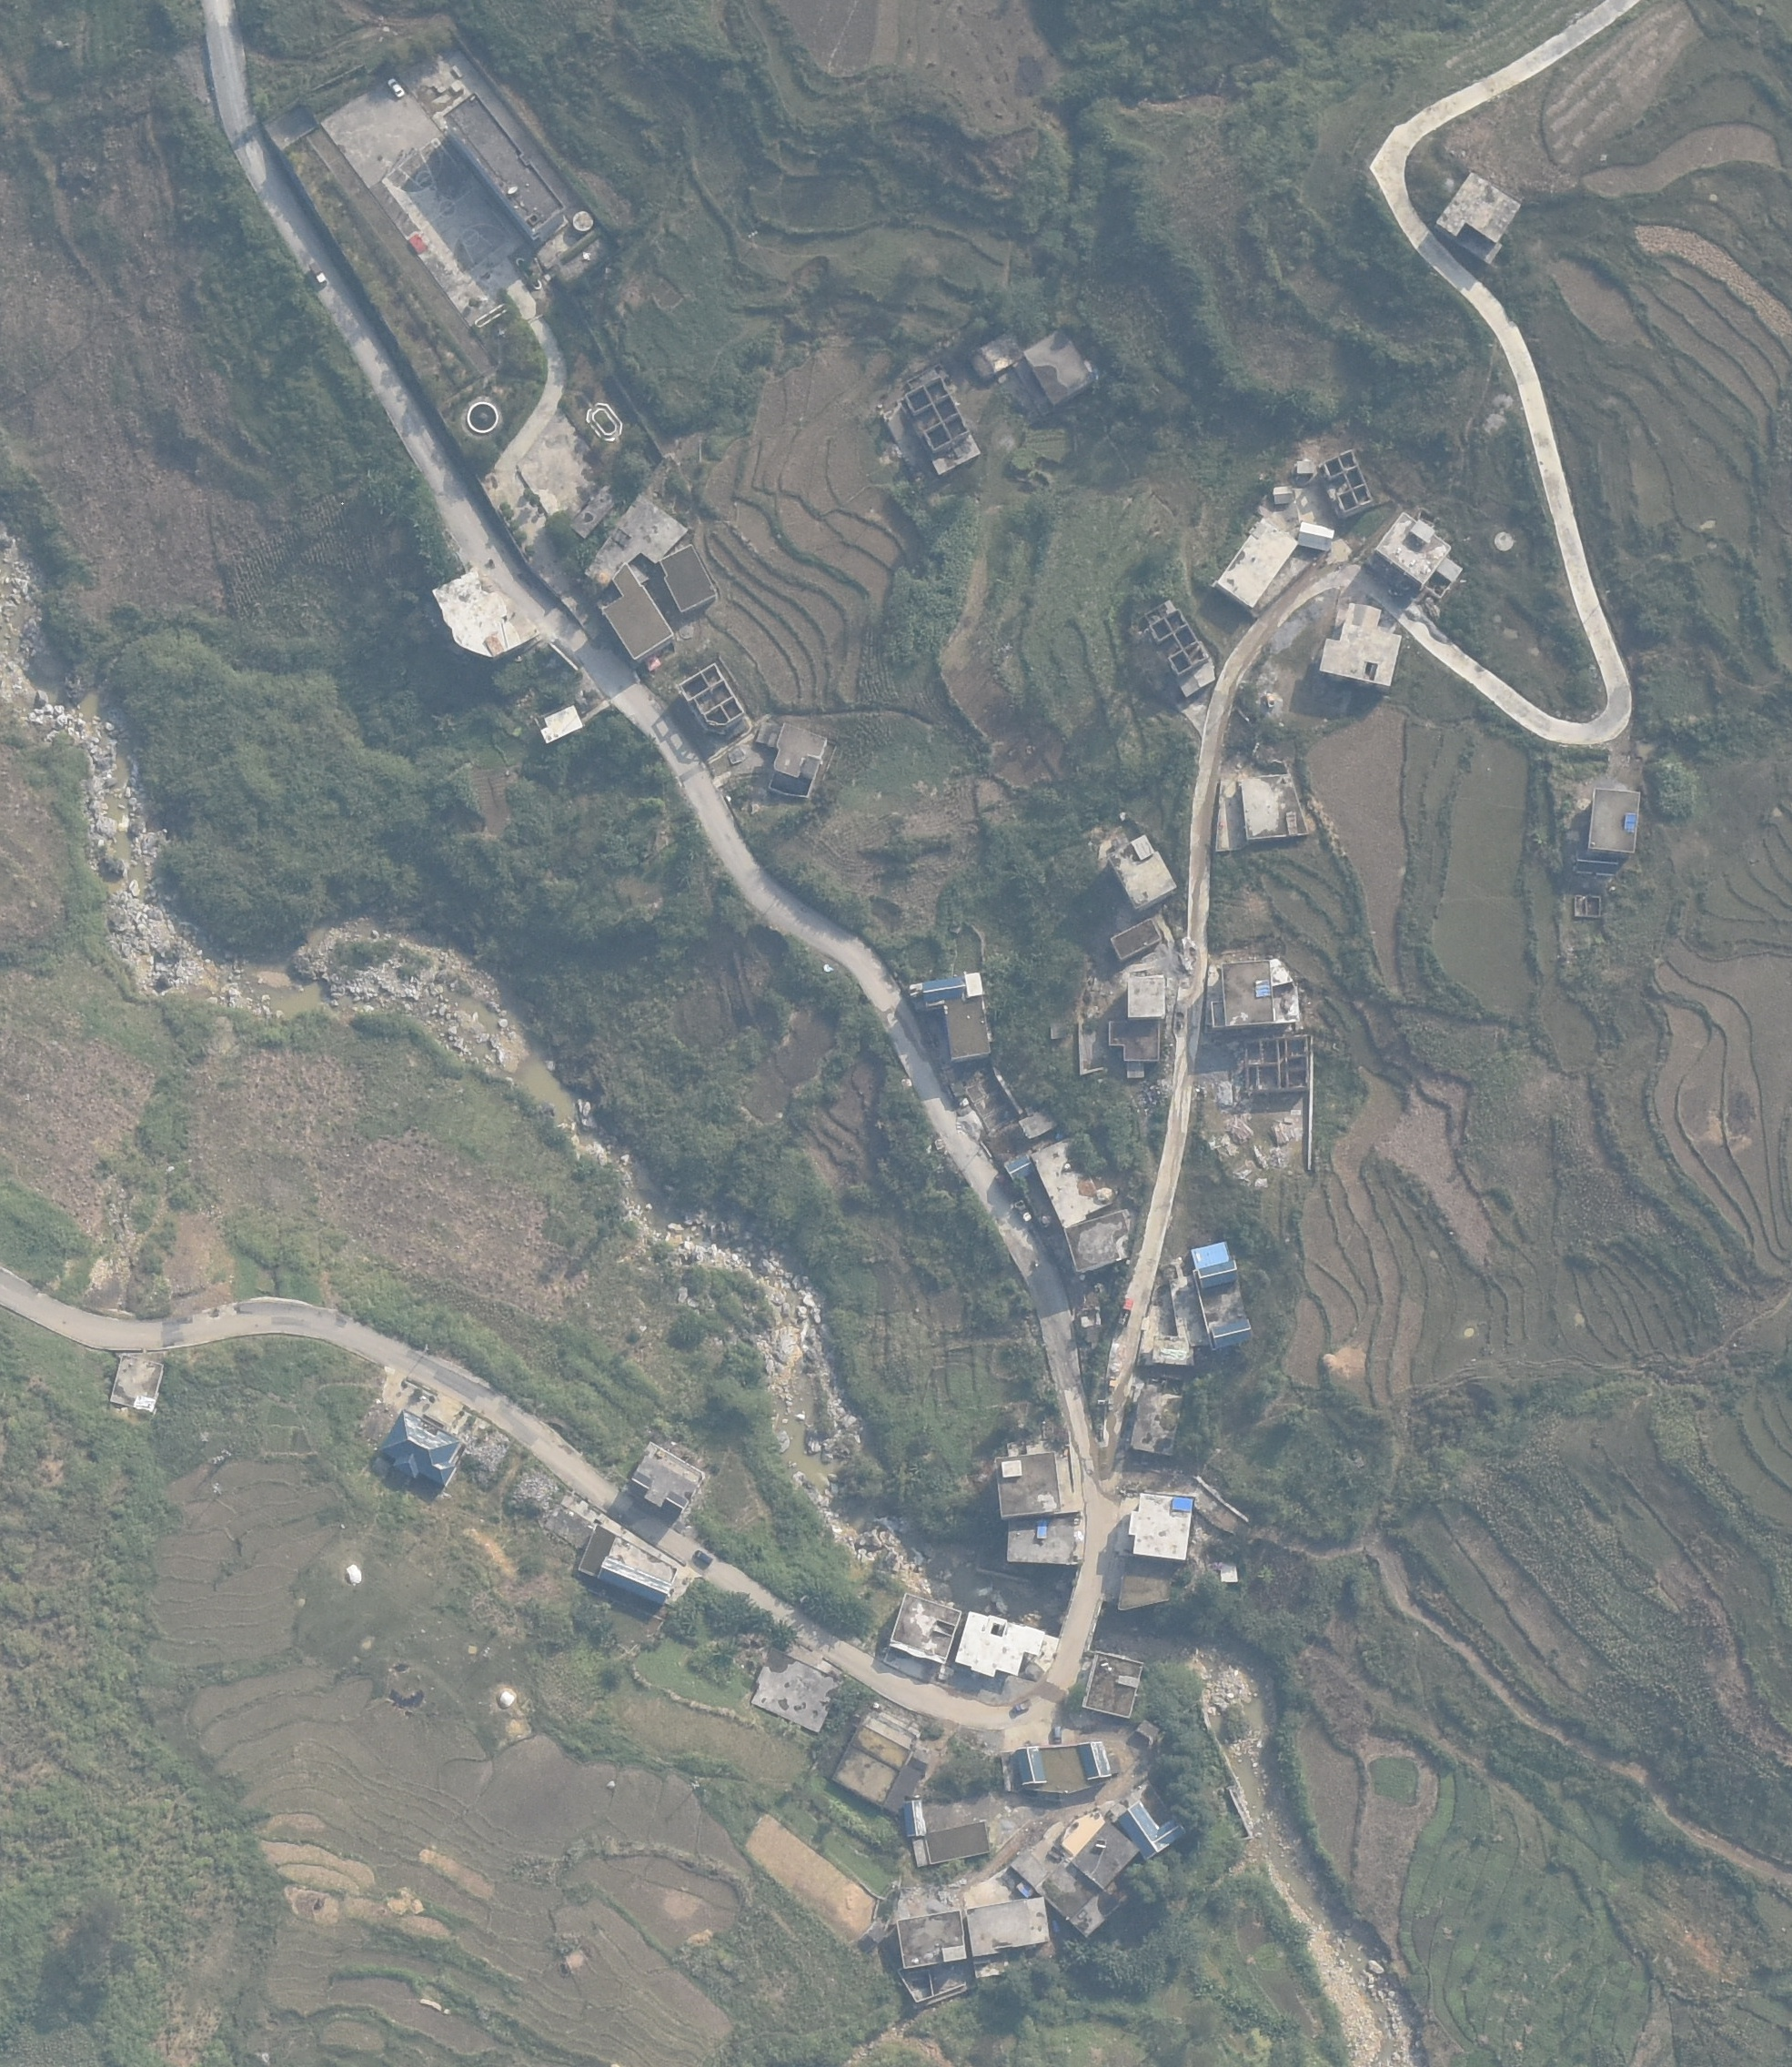building: (439, 95, 571, 243), (1015, 1816, 1144, 1935), (991, 1441, 1086, 1568), (900, 968, 1008, 1063), (423, 566, 529, 661), (1432, 169, 1521, 269), (750, 1645, 845, 1735), (1142, 594, 1219, 703), (954, 1610, 1056, 1693), (1374, 510, 1467, 599), (1028, 1139, 1126, 1222), (1316, 603, 1405, 693), (901, 378, 984, 471), (580, 1526, 675, 1606), (376, 1411, 462, 1496), (1214, 520, 1298, 606), (835, 1714, 914, 1803), (596, 573, 673, 661), (1021, 327, 1103, 403), (1214, 953, 1302, 1023), (887, 1587, 963, 1668), (1107, 972, 1170, 1067), (1107, 833, 1186, 909), (1232, 773, 1312, 847), (671, 668, 752, 740), (631, 1434, 708, 1508), (764, 722, 840, 796), (892, 1902, 965, 1979), (966, 1893, 1054, 1956), (1124, 1492, 1191, 1571), (1128, 1380, 1191, 1462), (1010, 1738, 1110, 1789), (654, 548, 731, 610), (102, 1346, 170, 1415), (1585, 782, 1641, 863), (1065, 1211, 1142, 1269), (1237, 1035, 1316, 1092), (1123, 1802, 1193, 1861), (1080, 1650, 1140, 1721), (910, 1823, 994, 1867), (1319, 450, 1372, 519), (968, 330, 1024, 376), (1109, 919, 1161, 961), (543, 703, 587, 745), (1295, 522, 1335, 557), (1212, 1316, 1253, 1348), (1196, 1260, 1240, 1287), (901, 1802, 928, 1837), (1001, 1155, 1038, 1178), (1270, 485, 1304, 504), (1291, 459, 1319, 480)
prefabricated-house: (1189, 1243, 1232, 1267)
vehicle: (304, 251, 332, 295), (385, 74, 406, 102), (690, 1548, 719, 1566), (1012, 1700, 1037, 1717), (1051, 1724, 1065, 1744)
well: (464, 399, 501, 434)
